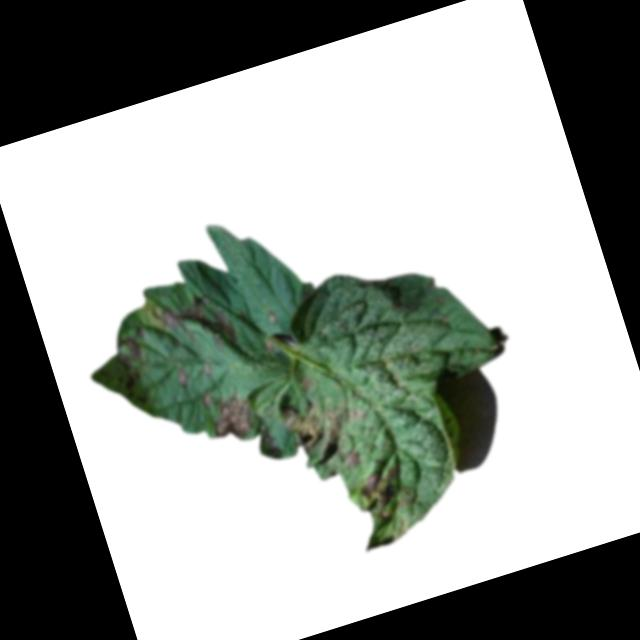Early_blight: (277, 384, 377, 471), (148, 284, 242, 369), (357, 465, 412, 533), (206, 391, 262, 448), (121, 325, 153, 364), (172, 365, 193, 391), (344, 449, 363, 470)
